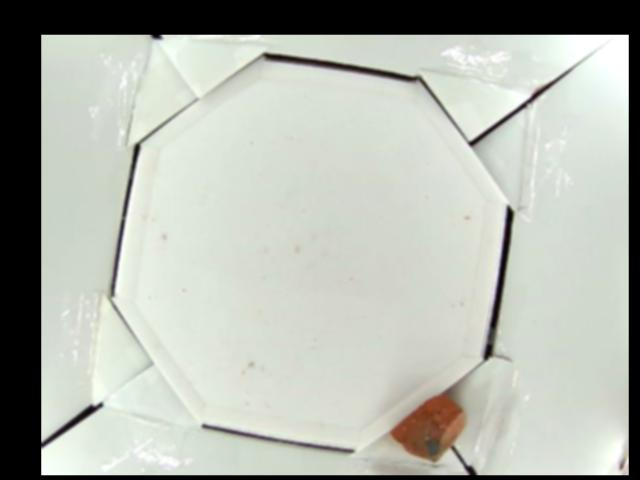Brisk: (393, 393, 465, 459)
